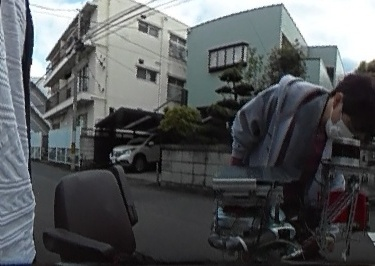person: (232, 71, 375, 266)
